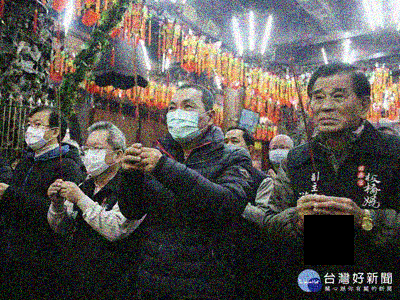with_mask: (167, 97, 210, 142), (83, 140, 116, 176), (24, 118, 55, 151), (269, 142, 291, 165)
without_mask: (310, 86, 366, 135)
